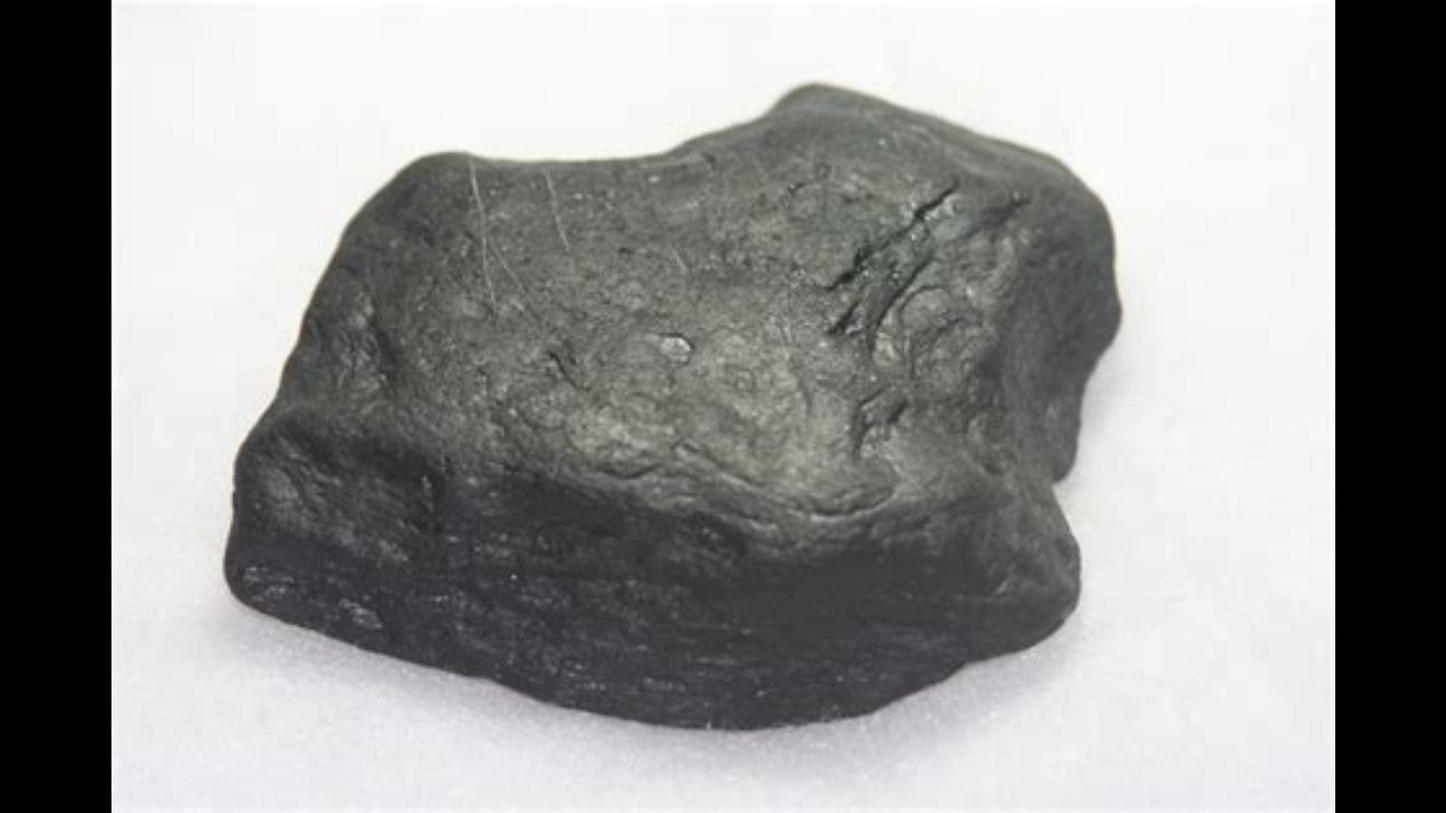rock: (227, 88, 1115, 723)
